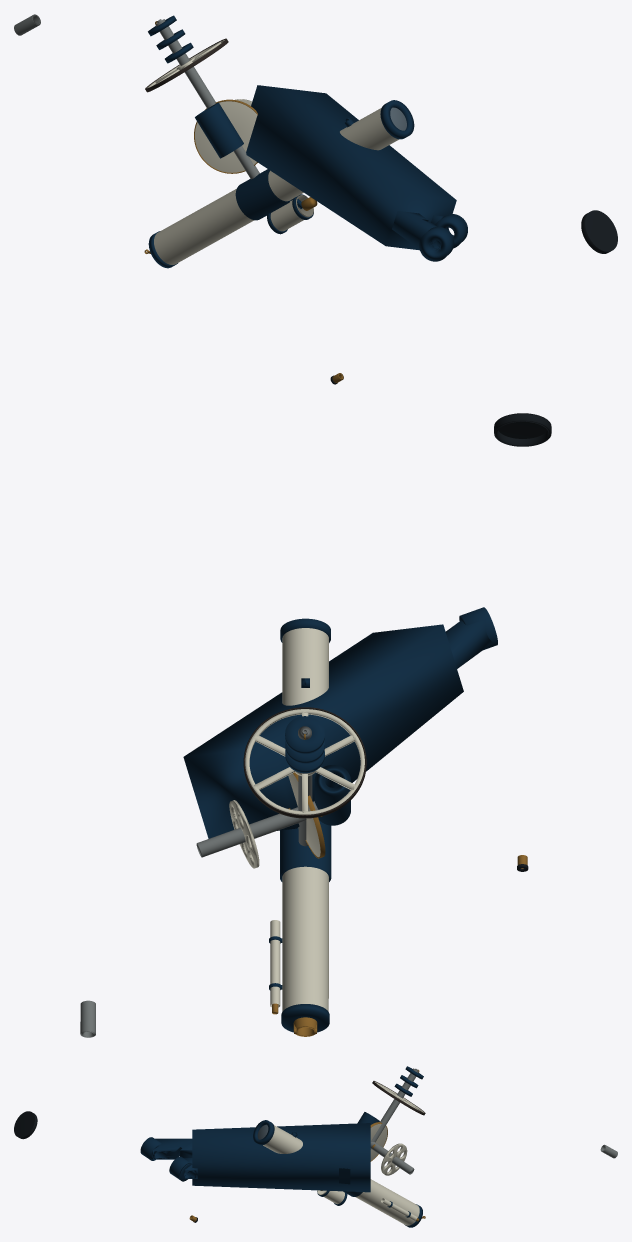
The model's file is telescope-workcell.glb.
3 views of the same model, one above another, from view 1: azimuth 30°, elevation 25°; view 2: azimuth 150°, elevation 25°; view 3: azimuth 270°, elevation 25° (orthographic). The views are drawn at different scales.
Parts seen in each view (by area): view 1: fixed_pier, optical_carrier, ra_carrier, objective_cover; view 2: fixed_pier, optical_carrier, ra_carrier, objective_cover; view 3: fixed_pier, optical_carrier, ra_carrier, objective_cover.
Boxes of the visible parts, left/top/right/bottom form: fixed_pier: left=246, top=85, right=467, bottom=261; optical_carrier: left=144, top=15, right=414, bottom=268; ra_carrier: left=194, top=99, right=257, bottom=173; objective_cover: left=581, top=210, right=617, bottom=253; fixed_pier: left=183, top=607, right=497, bottom=838; optical_carrier: left=243, top=618, right=366, bottom=1036; ra_carrier: left=196, top=765, right=350, bottom=868; objective_cover: left=494, top=413, right=551, bottom=446; fixed_pier: left=140, top=1123, right=370, bottom=1192; optical_carrier: left=253, top=1066, right=425, bottom=1227; ra_carrier: left=357, top=1112, right=414, bottom=1175; objective_cover: left=14, top=1111, right=37, bottom=1139.
Bounding box in the file's own units: 1.98 × 2.61 × 8.97.
